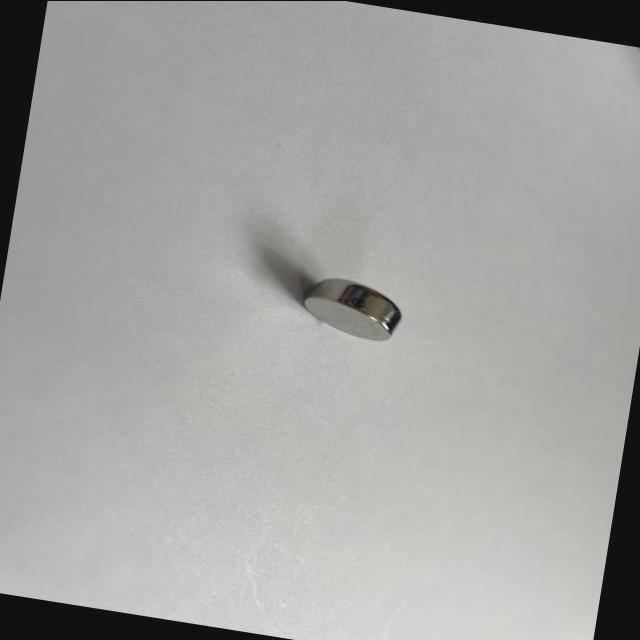COIN: (294, 272, 410, 346)
